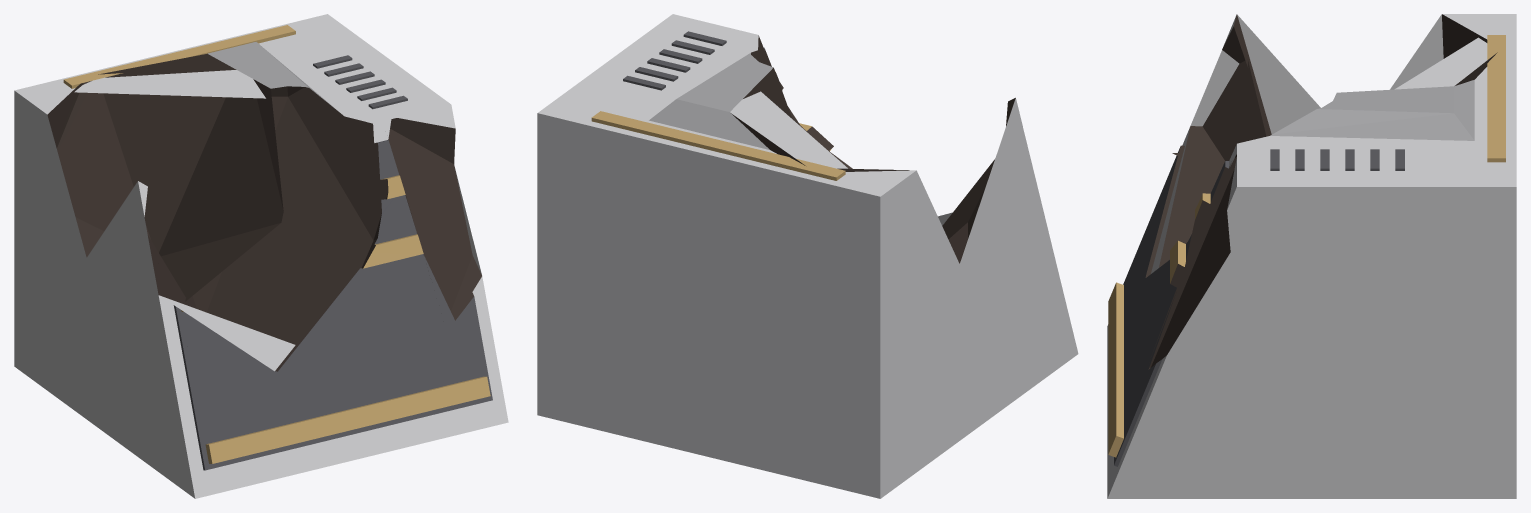
The model's file is vge_d_largethruster.obj.
3 views of the same model, side by side, from view 1: azimuth 30°, elevation 25°; view 2: azimuth 150°, elevation 25°; view 3: azimuth 270°, elevation 25° (orthographic). The views are drawn at different scales.
Visible parts, largest first — view 1: vge_d_largethruster; view 2: vge_d_largethruster; view 3: vge_d_largethruster.
Part boxes in pixels (box(x1,y1,x2,y2)): vge_d_largethruster: box(14, 14, 508, 498); vge_d_largethruster: box(537, 14, 1078, 498); vge_d_largethruster: box(1107, 14, 1516, 498).
Size of the model in its own units: 1.96 by 1.75 by 1.96.
